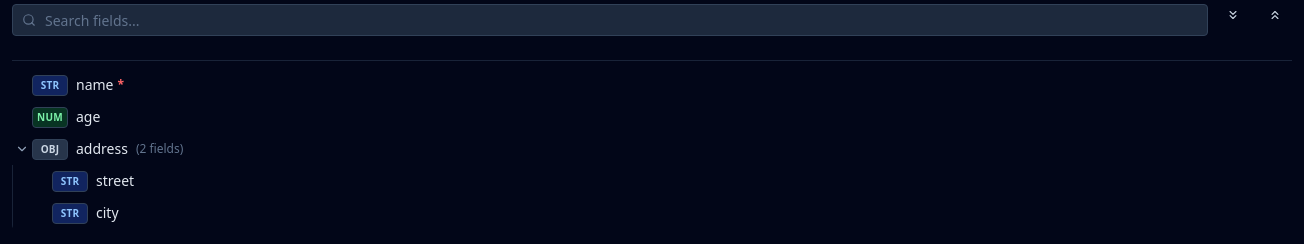
Test: SchemaTreeView › Populated state (AE-01) › shows children after expanding a collapsed node
The image size is (1304, 244).
Collapse first
Step 1. Click the button named "Collapse address" → (22, 149), box [13,140,31,158]
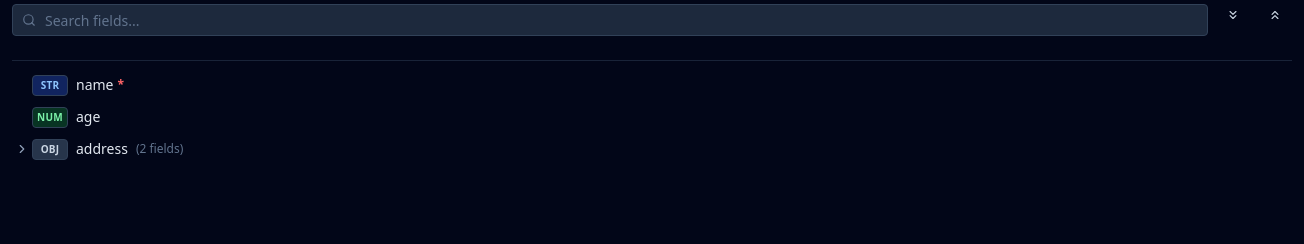
Check: the text "street" is gone
Step 2. Click the button named "Expand address" → (22, 149), box [13,140,31,158]
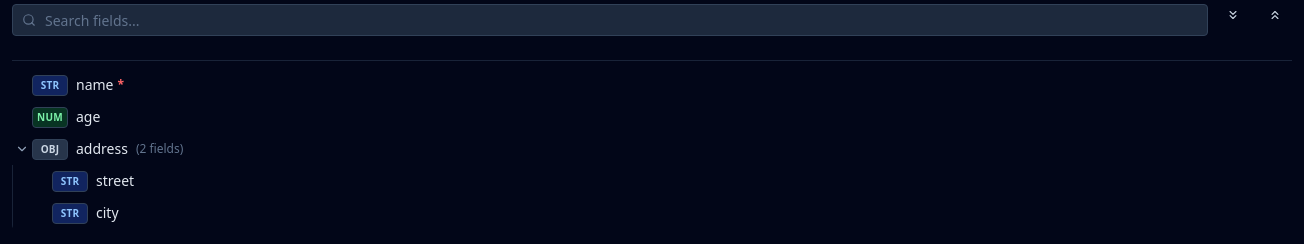
Check: the text "street" is shown, box [96,171,134,191]
